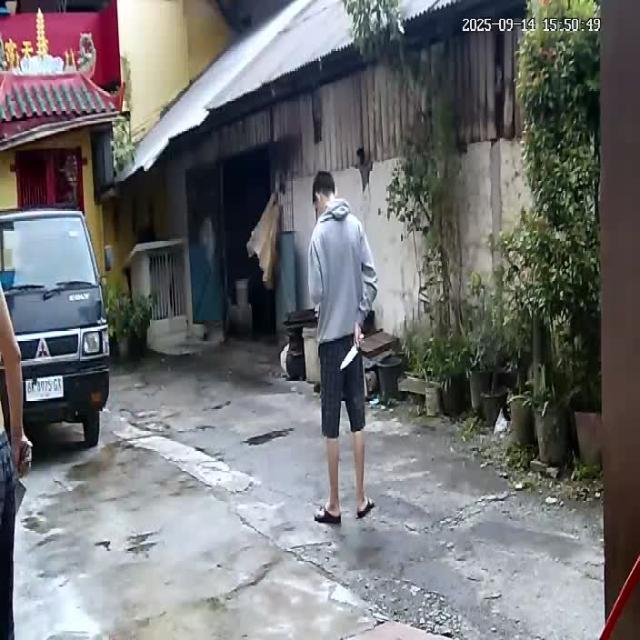senjata_tajam: (340, 345, 360, 371)
